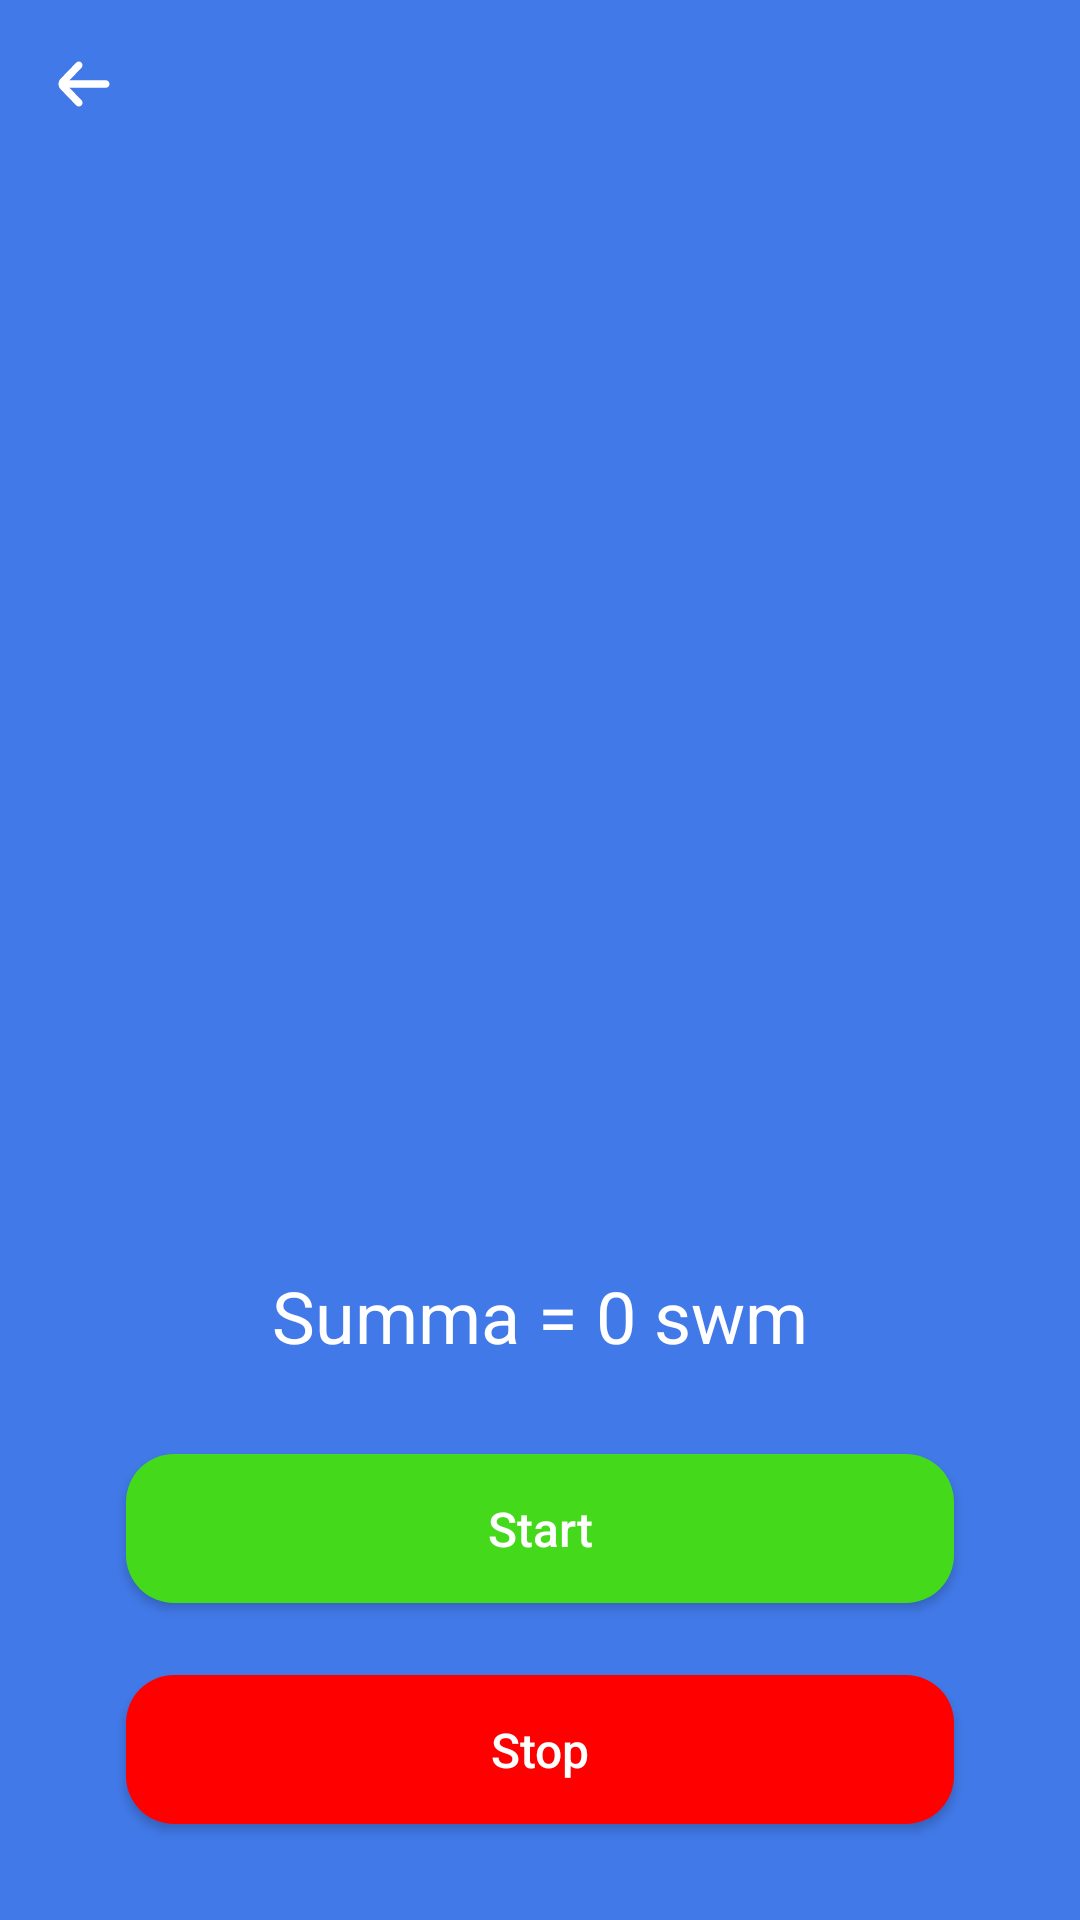

Where to tap for icons on this 1080px x 1920px app screen, as point (x, y):
arrow left: point (84, 84)
